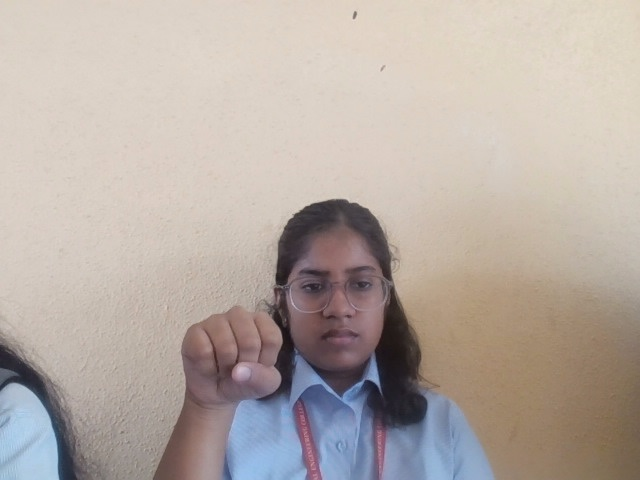Yes: (173, 298, 287, 408)
